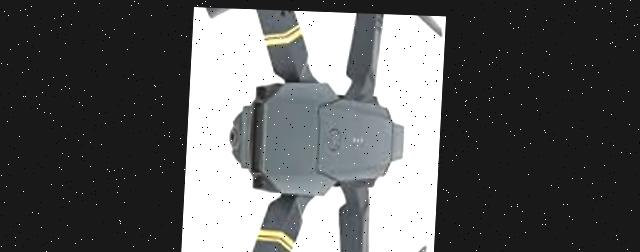drone: (200, 6, 433, 252)
